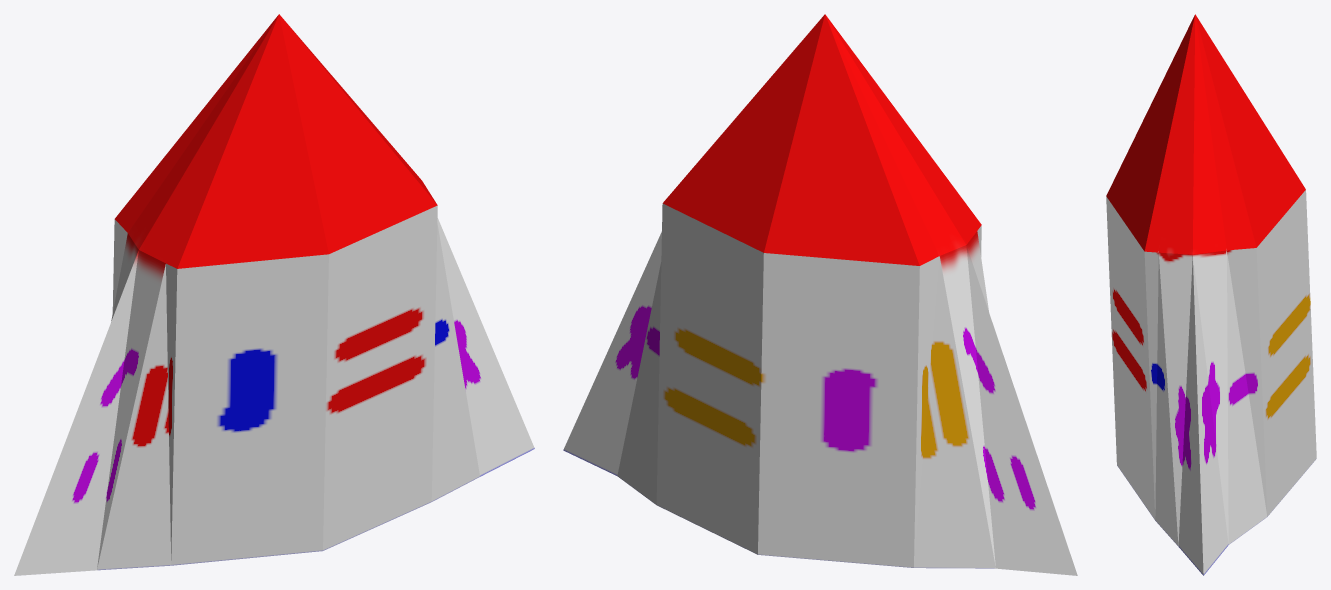
File: spaceship.obj
3 renders of one model, left to right at view 1: azimuth 30°, elevation 25°; view 2: azimuth 150°, elevation 25°; view 3: azimuth 270°, elevation 25°, orthographic. The views are drawn at different scales.
Visible parts, largest first — view 1: Cube; view 2: Cube; view 3: Cube.
Part boxes in pixels (x1,y1,x2,y2): Cube: (14, 14, 534, 575); Cube: (563, 14, 1077, 575); Cube: (1106, 14, 1316, 575).
Size of the model in its own units: 2 by 1.85 by 0.7838.
